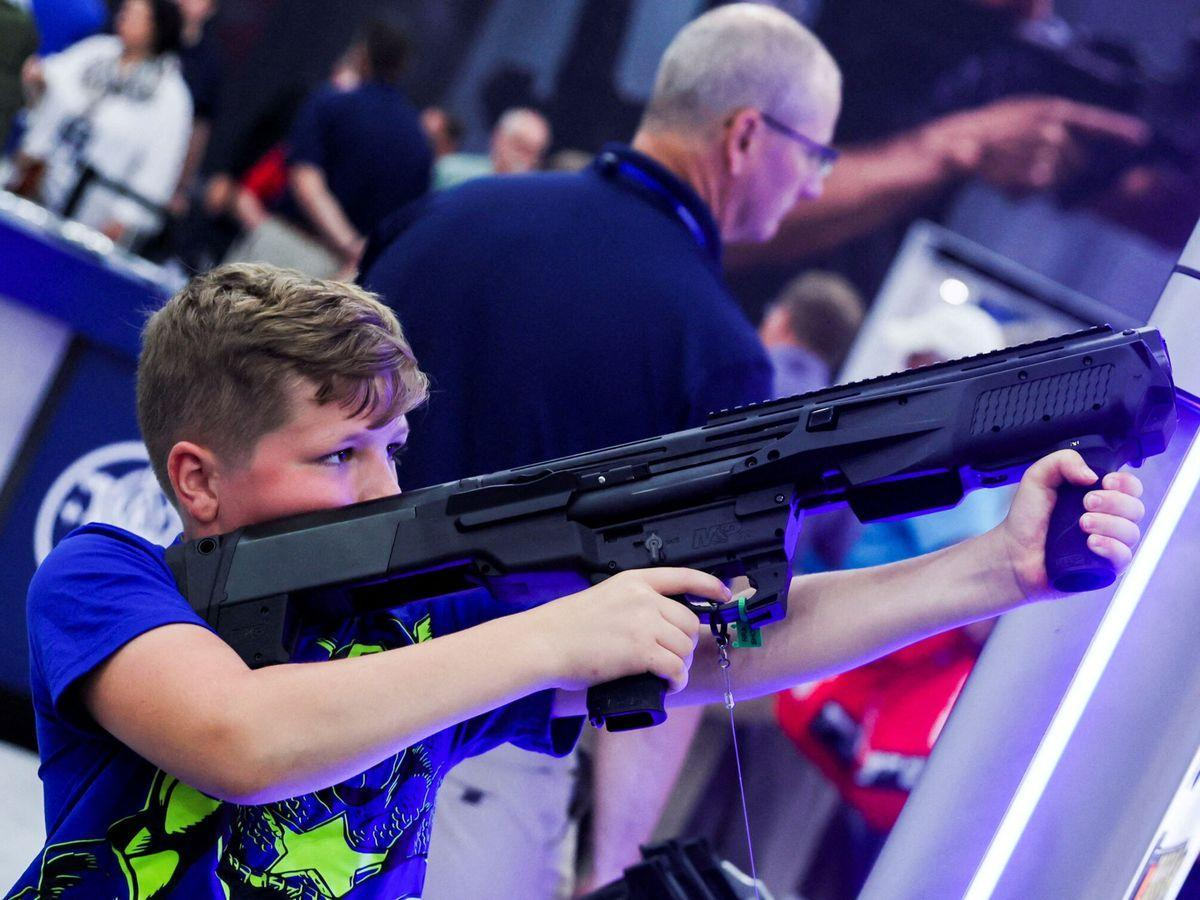larga: (159, 321, 1184, 736)
